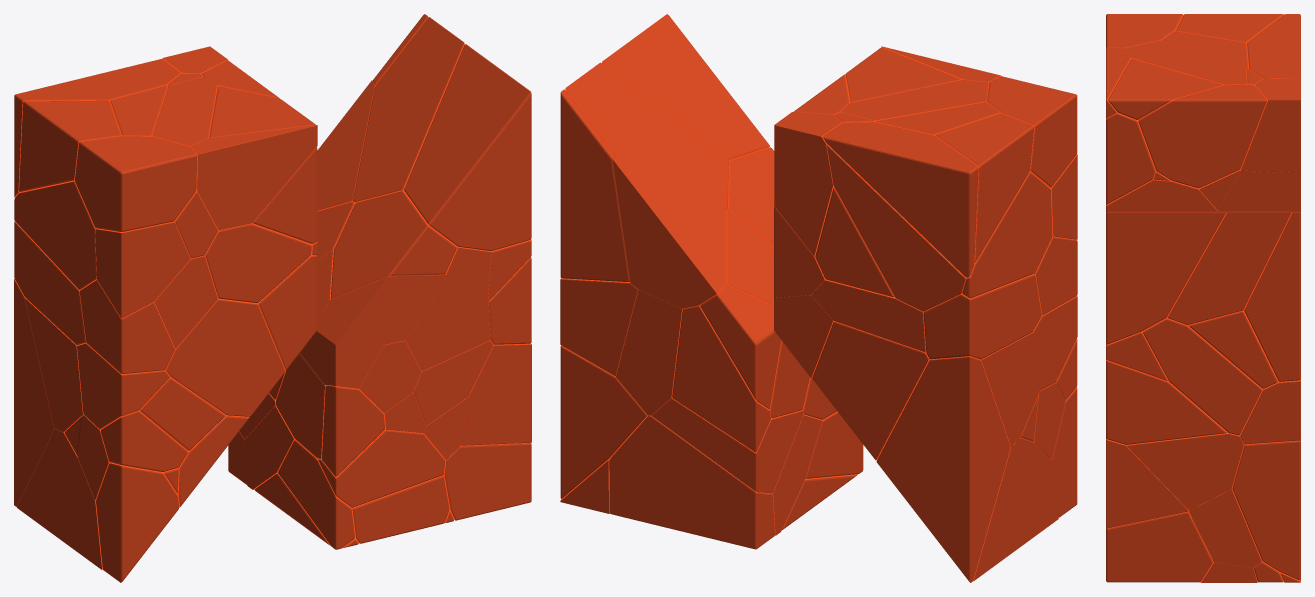
Rendered from nexus-n-shards.glb.
3 renders of one model, left to right at view 1: azimuth 30°, elevation 25°; view 2: azimuth 150°, elevation 25°; view 3: azimuth 270°, elevation 25°, orthographic. The views are drawn at different scales.
Parts seen in each view (by area): view 1: N_right_shard_25, N_right_shard_46, N_left_shard_44, N_left_shard_32, N_left_shard_27, N_right_shard_01, N_left_shard_08, N_left_shard_02, N_left_shard_19, N_left_shard_18, N_right_shard_00, N_left_shard_16 (+42 smaller); view 2: N_left_shard_04, N_right_shard_33, N_left_shard_22, N_right_shard_13, N_right_shard_46, N_right_shard_25, N_right_shard_39, N_left_shard_38, N_left_shard_21, N_right_shard_14, N_right_shard_17, N_left_shard_24 (+33 smaller); view 3: N_right_shard_25, N_left_shard_47, N_right_shard_46, N_right_shard_14, N_right_shard_05, N_right_shard_03, N_right_shard_22, N_right_shard_39, N_right_shard_47, N_left_shard_28, N_right_shard_00, N_left_shard_10 (+16 smaller).
Boxes of the visible parts, box(x1,y1,x2,y2) form: N_right_shard_25: box(404, 44, 531, 251); N_right_shard_46: box(353, 17, 464, 203); N_left_shard_44: box(75, 136, 197, 232); N_left_shard_32: box(166, 298, 285, 416); N_left_shard_27: box(190, 125, 317, 229); N_right_shard_01: box(330, 191, 456, 299); N_left_shard_08: box(96, 463, 179, 582); N_left_shard_02: box(19, 100, 121, 192); N_left_shard_19: box(95, 222, 190, 318); N_left_shard_18: box(17, 429, 102, 569); N_right_shard_00: box(460, 344, 531, 445); N_left_shard_16: box(204, 223, 311, 303); N_left_shard_04: box(876, 356, 1010, 582); N_right_shard_33: box(609, 415, 774, 549); N_left_shard_22: box(823, 122, 978, 277); N_right_shard_13: box(612, 157, 726, 308); N_right_shard_46: box(565, 62, 728, 210); N_right_shard_25: box(602, 14, 769, 160); N_right_shard_39: box(560, 89, 629, 282); N_left_shard_38: box(812, 321, 929, 460); N_left_shard_21: box(826, 144, 965, 311); N_right_shard_14: box(560, 345, 647, 498); N_right_shard_17: box(672, 305, 770, 452); N_left_shard_24: box(923, 273, 1041, 360); N_right_shard_25: box(1106, 211, 1225, 344); N_left_shard_47: box(1138, 84, 1266, 188); N_right_shard_46: box(1166, 211, 1292, 325); N_right_shard_14: box(1232, 440, 1300, 579); N_right_shard_05: box(1143, 318, 1261, 435); N_right_shard_03: box(1106, 361, 1227, 444); N_right_shard_22: box(1106, 511, 1212, 582); N_right_shard_39: box(1244, 211, 1300, 381); N_right_shard_47: box(1126, 432, 1243, 510); N_left_shard_28: box(1241, 78, 1300, 173); N_right_shard_00: box(1106, 437, 1188, 528); N_left_shard_10: box(1108, 59, 1223, 120).
Size of the model in its own units: 2.09 by 2.09 by 0.95.
